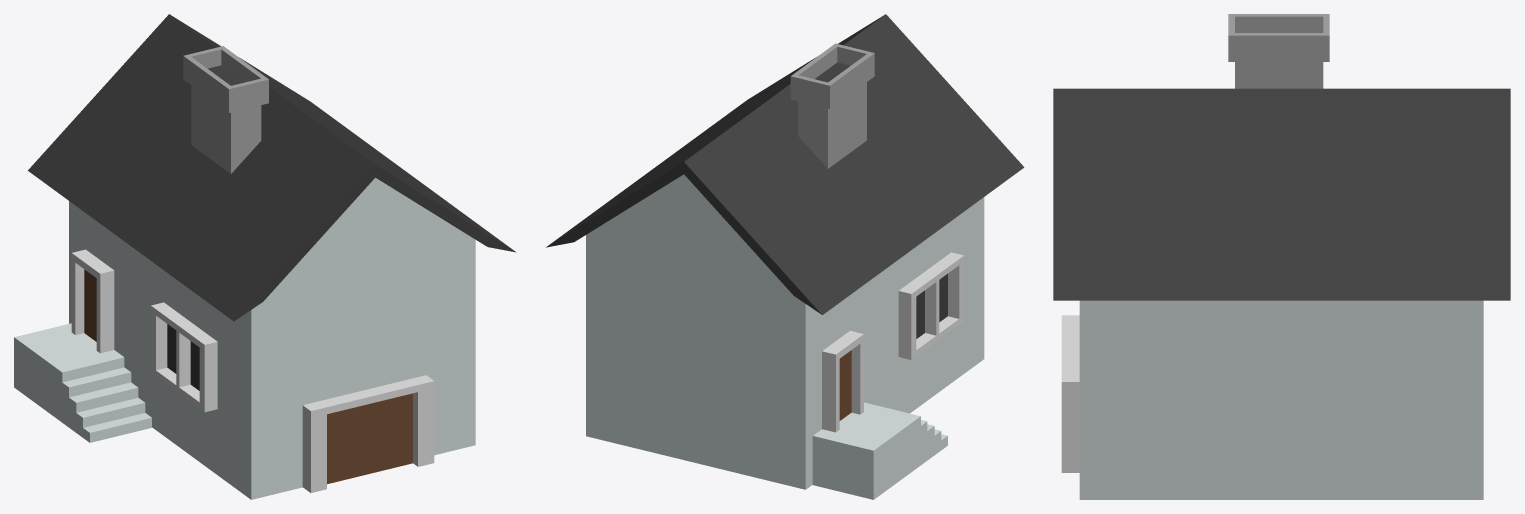
Rendered from Maison2.fbx.
3 views of the same model, side by side, from view 1: azimuth 30°, elevation 25°; view 2: azimuth 150°, elevation 25°; view 3: azimuth 270°, elevation 25° (orthographic). The views are drawn at different scales.
Parts seen in each view (by area): view 1: maison1; view 2: maison1; view 3: maison1.
Boxes of the visible parts, x1=… form: maison1: x1=14, y1=14, x2=516, y2=499; maison1: x1=546, y1=14, x2=1024, y2=499; maison1: x1=1053, y1=14, x2=1510, y2=499.
Size of the model in its own units: 3.02 by 3.21 by 3.41.
